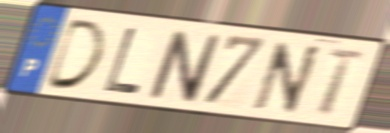7: (200, 32, 269, 108)
D: (41, 17, 111, 93)
L: (100, 25, 144, 97)
N: (146, 27, 223, 106), (249, 40, 325, 117)
T: (315, 46, 367, 119)
